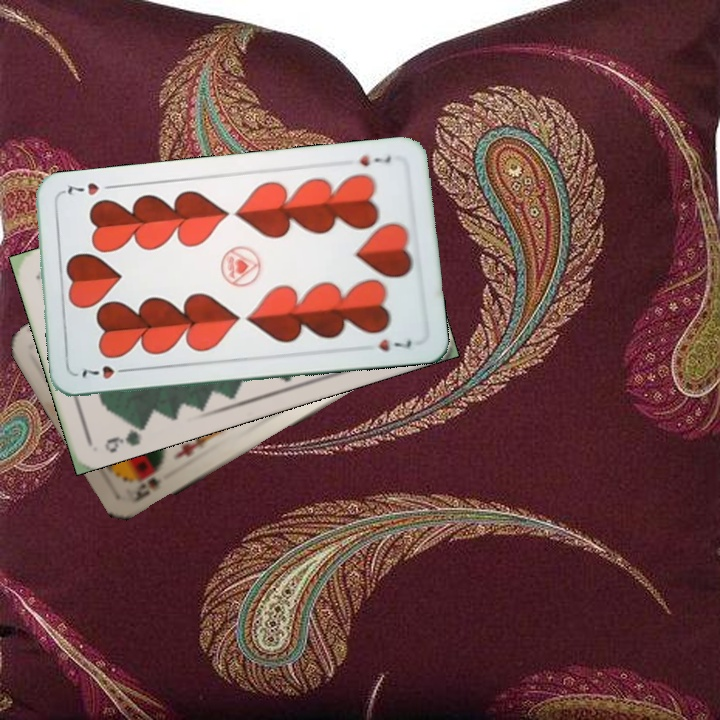G9: (100, 417, 149, 456)
H7: (77, 362, 133, 382), (356, 150, 394, 169)
SK: (122, 473, 164, 506)
